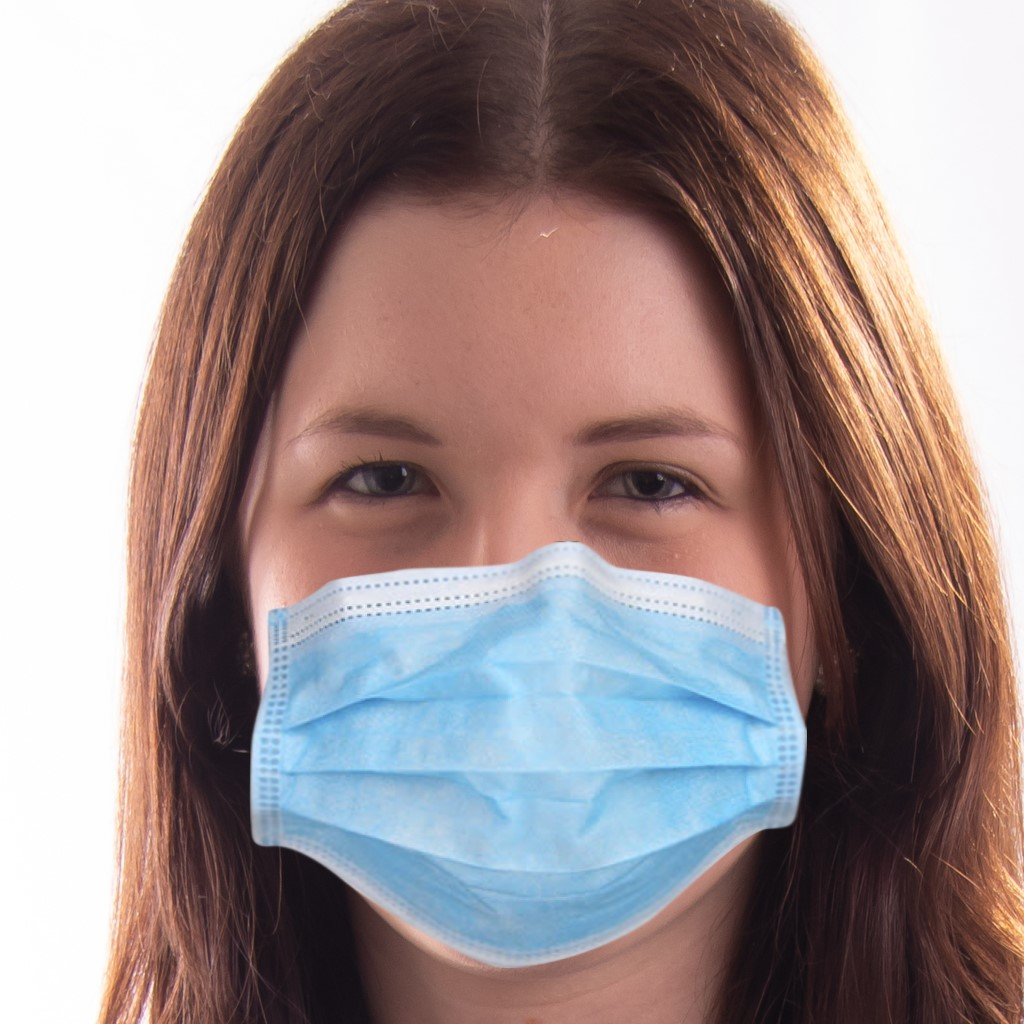con_mascara: (218, 150, 835, 957)
